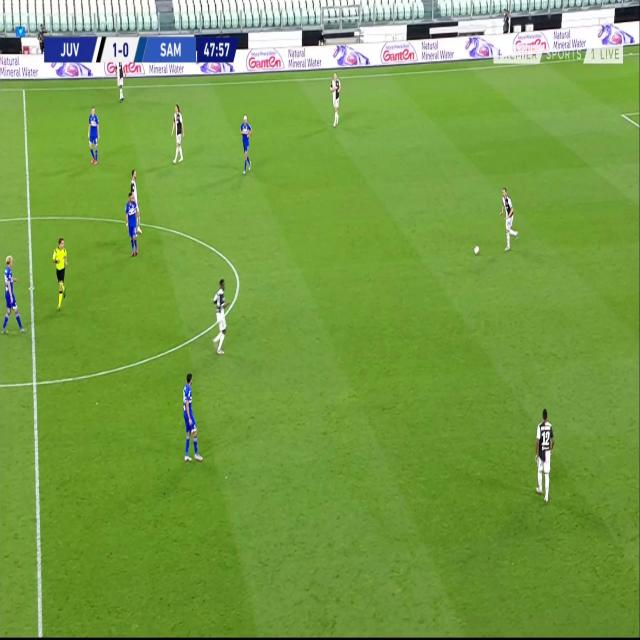ball: (473, 243, 480, 257)
player: (533, 404, 556, 503), (0, 250, 25, 335), (181, 369, 203, 463), (498, 185, 519, 254), (211, 276, 229, 356), (51, 235, 68, 310), (125, 189, 140, 259), (170, 102, 186, 162), (239, 112, 253, 174), (87, 105, 101, 164), (329, 72, 342, 125), (115, 54, 125, 102), (128, 168, 138, 212)
